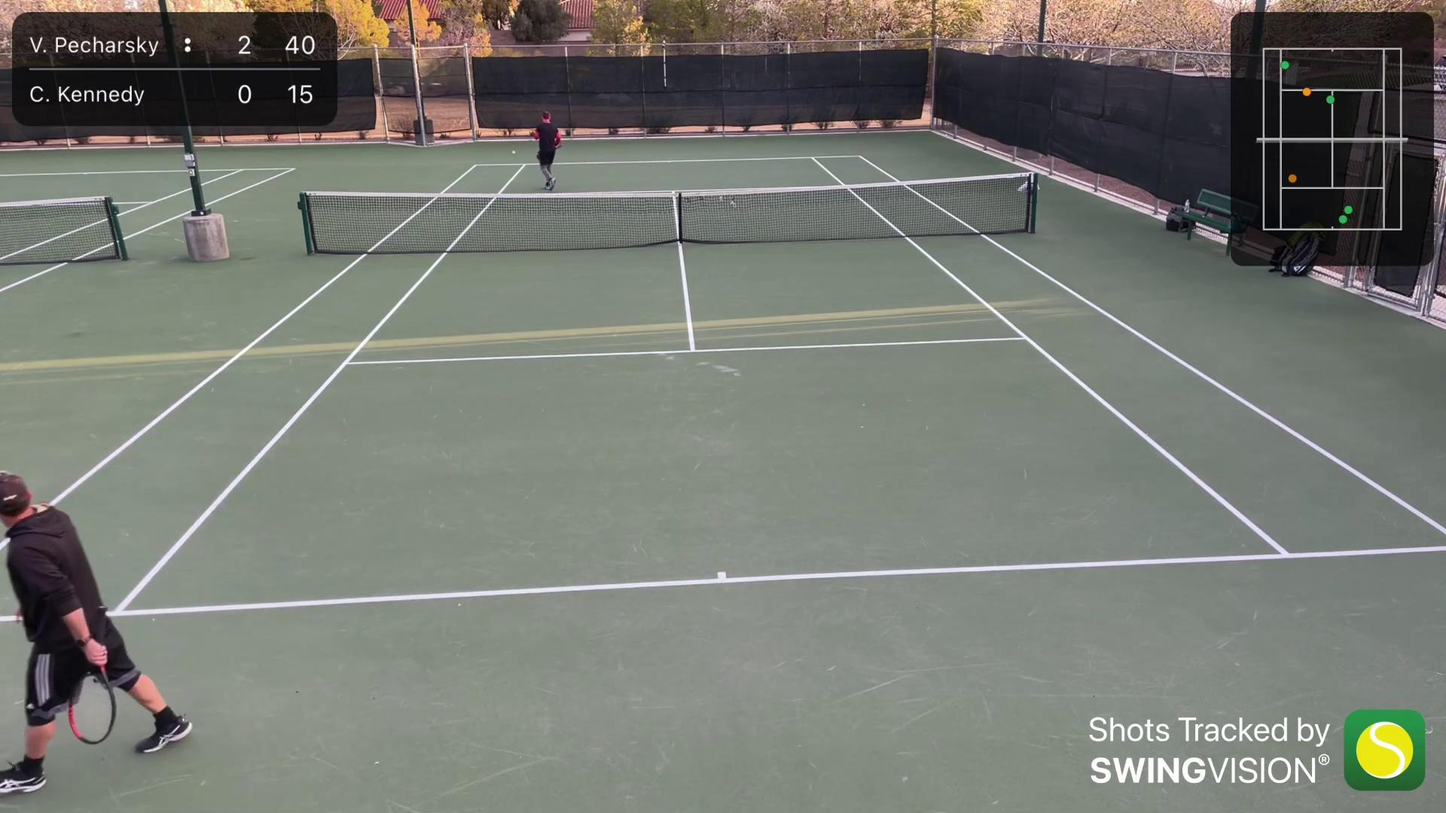ball: (511, 150, 517, 155)
